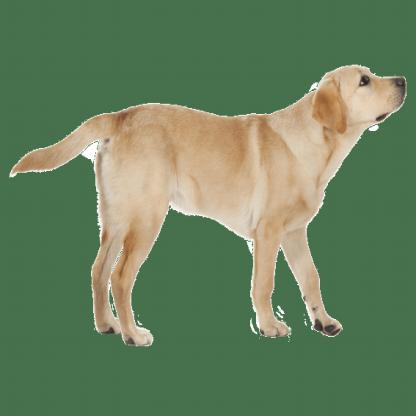dog: (9, 64, 403, 344)
